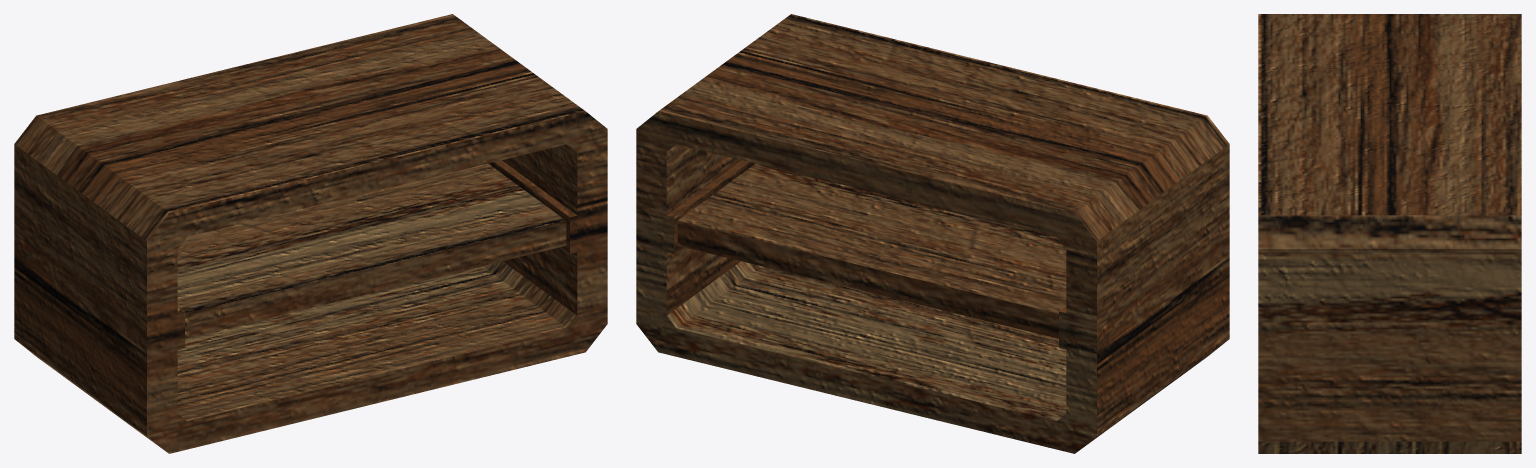
File: tv-stand_by_daelok.glb
3 renders of one model, left to right at view 1: azimuth 30°, elevation 25°; view 2: azimuth 150°, elevation 25°; view 3: azimuth 270°, elevation 25°, orthographic.
Visible parts, largest first — view 1: Stand; view 2: Stand; view 3: Stand.
Boxes of the visible parts, bbox=[...] form: Stand: bbox=[14, 14, 607, 453]; Stand: bbox=[636, 14, 1229, 453]; Stand: bbox=[1258, 14, 1521, 453].
Size of the model in its own units: 4 by 2 by 2.
Materials: 1 (1 with a texture image).
